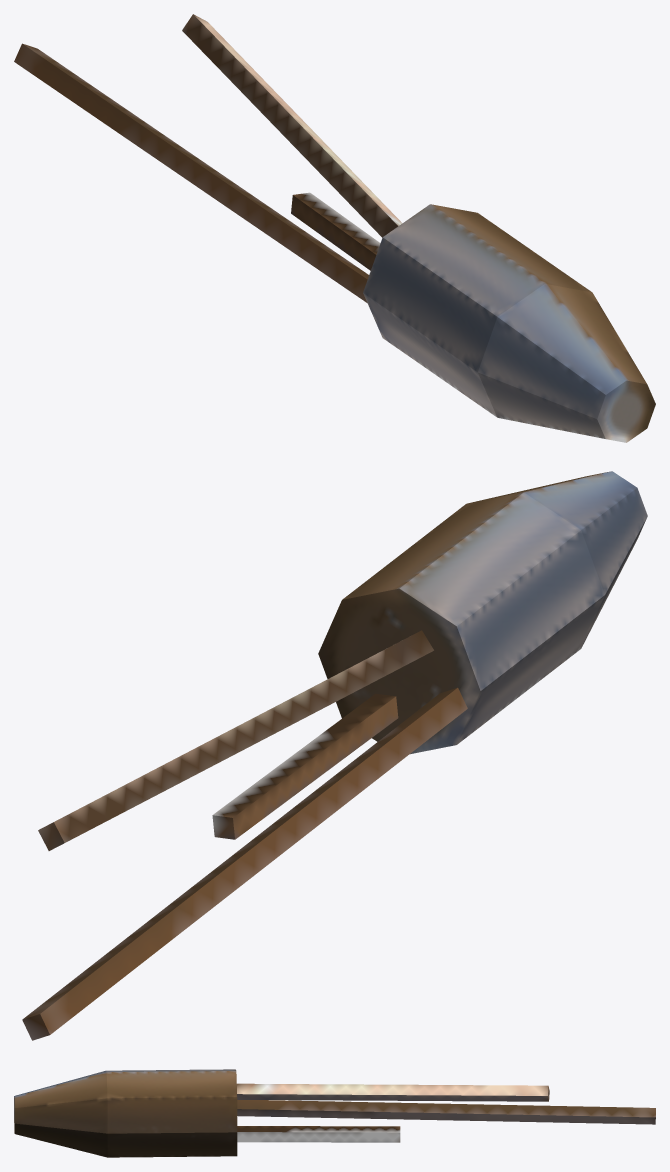
3 views of the same model, one above another, from view 1: azimuth 30°, elevation 25°; view 2: azimuth 150°, elevation 25°; view 3: azimuth 270°, elevation 25° (orthographic). The views are drawn at different scales.
Parts seen in each view (by area): view 1: Bala_Cylinder.003, Estela_1_Cube.006, Estela_3_Cube.008, Estela_2_Cube.007; view 2: Bala_Cylinder.003, Estela_1_Cube.006, Estela_3_Cube.008, Estela_2_Cube.007; view 3: Bala_Cylinder.003, Estela_1_Cube.006, Estela_3_Cube.008, Estela_2_Cube.007.
Boxes of the visible parts, x1,y1,x2,y2 form: Bala_Cylinder.003: (363,204,655,442); Estela_1_Cube.006: (14,43,368,302); Estela_3_Cube.008: (182,14,402,237); Estela_2_Cube.007: (291,192,380,270); Bala_Cylinder.003: (318,471,647,754); Estela_1_Cube.006: (22,687,467,1040); Estela_3_Cube.008: (38,630,433,850); Estela_2_Cube.007: (212,693,398,839); Bala_Cylinder.003: (14,1069,237,1157); Estela_1_Cube.006: (237,1100,655,1124); Estela_3_Cube.008: (236,1083,549,1101); Estela_2_Cube.007: (237,1126,400,1142).
Size of what is drawn, in the model's own units: 0.2897 by 0.2805 by 1.95.
